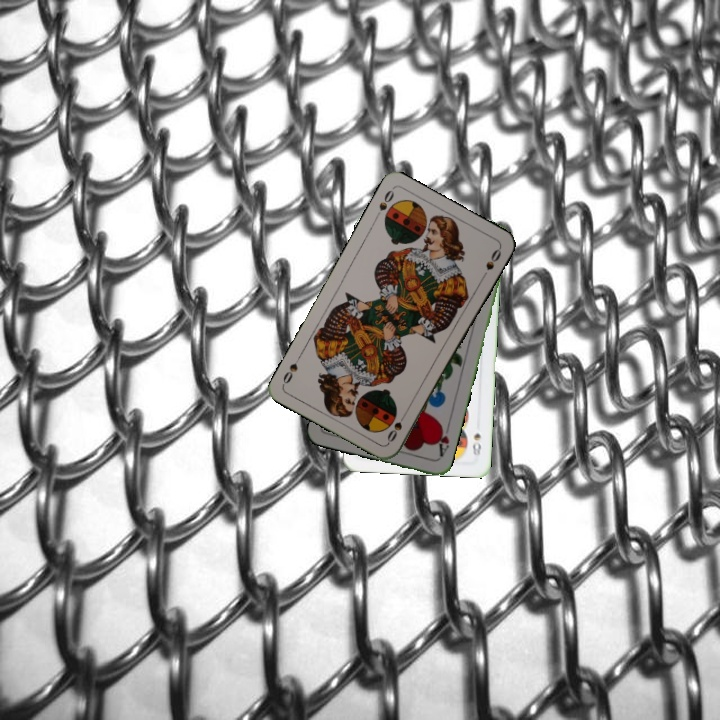HA: (432, 420, 452, 461)
S8: (468, 429, 483, 459)
SO: (383, 408, 410, 445), (371, 186, 397, 222)
